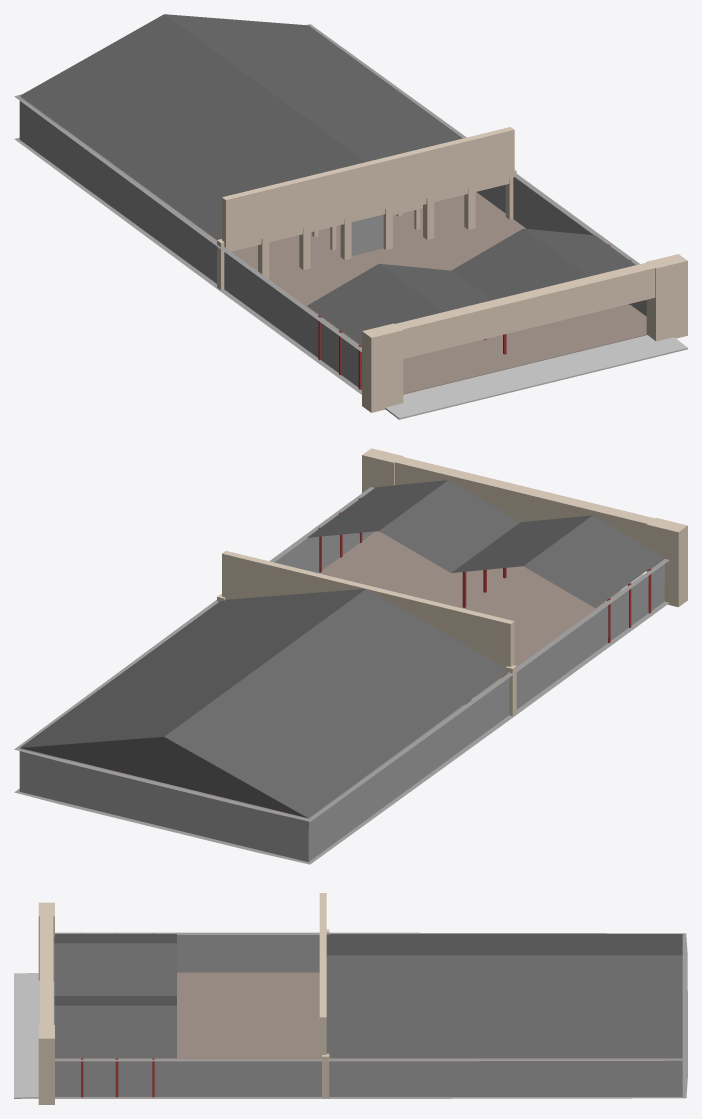
Rendered from taller_fbx.fbx.
The picture shows the model from 3 angles, top to bottom: view 1: azimuth 30°, elevation 25°; view 2: azimuth 150°, elevation 25°; view 3: azimuth 270°, elevation 25°; orthographic projection. The views are drawn at different scales.
Parts seen in each view (by area): view 1: polySurface19, base, base1, polySurface18, base4, polySurface20, base3, polySurface21, base5, base6; view 2: polySurface19, base1, polySurface18, base, base4, polySurface20, polySurface21; view 3: polySurface19, base1, polySurface18, base, base3, polySurface21, polySurface20, base4, pCube50.
Part boxes in pixels (x1,y1,x2,y2): polySurface19: [20, 14, 462, 239]; base: [64, 128, 646, 394]; base1: [14, 24, 646, 394]; polySurface18: [307, 228, 635, 345]; base4: [222, 127, 514, 247]; polySurface20: [395, 262, 655, 358]; base3: [385, 335, 687, 419]; polySurface21: [362, 254, 687, 412]; base5: [228, 178, 509, 251]; base6: [351, 214, 383, 255]; polySurface19: [20, 589, 508, 818]; base1: [14, 487, 669, 864]; polySurface18: [307, 480, 664, 608]; base: [64, 531, 620, 819]; base4: [222, 551, 514, 667]; polySurface20: [395, 456, 654, 546]; polySurface21: [362, 448, 687, 607]; polySurface19: [326, 934, 682, 1058]; base1: [55, 932, 687, 1098]; polySurface18: [54, 934, 176, 1058]; base: [55, 972, 682, 1059]; base3: [14, 973, 54, 1098]; polySurface21: [38, 902, 54, 1104]; polySurface20: [40, 916, 53, 1024]; base4: [319, 893, 326, 1058]; pCube50: [322, 1053, 329, 1098].
Size of the model in its own units: 355 by 99.48 by 744.
